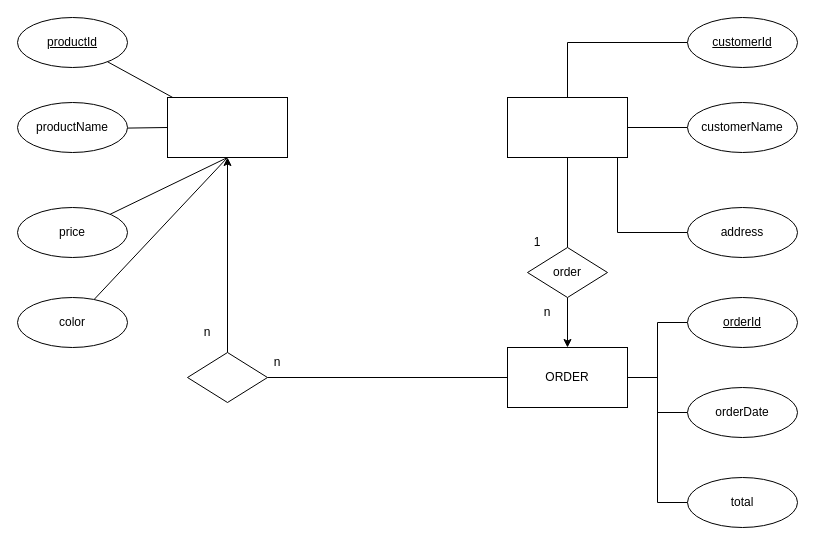
The diagram is 815 pixels wide and 545 high, and some of its shapes have lost their labels. The shapes that lost their labels are listed below. From the top down, each one's box as (x1, y1, x2, y2) in pixels, then its label:
(166, 96, 288, 158): PRODUCTS
(506, 96, 628, 158): CUSTOMER
(186, 352, 268, 402): contain
